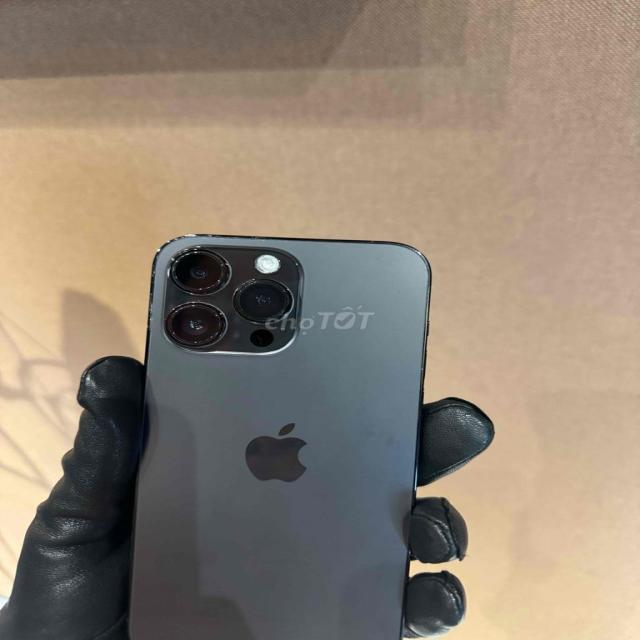gen_14: (106, 224, 449, 640)
